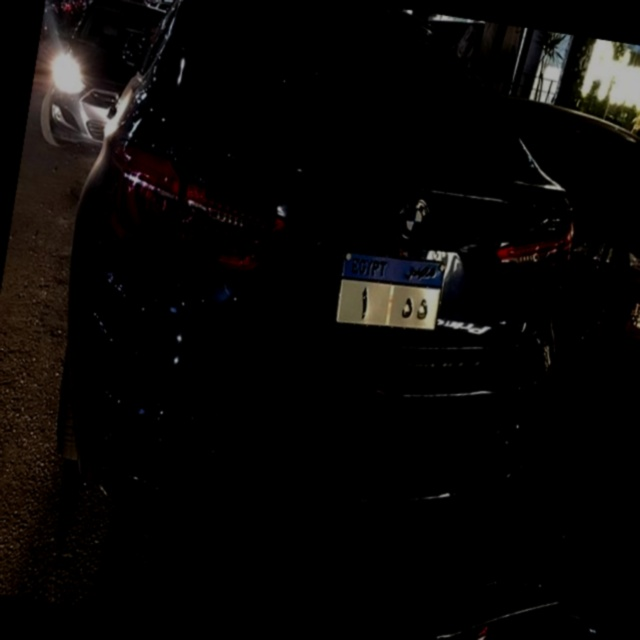License Plate: (331, 242, 449, 344)
